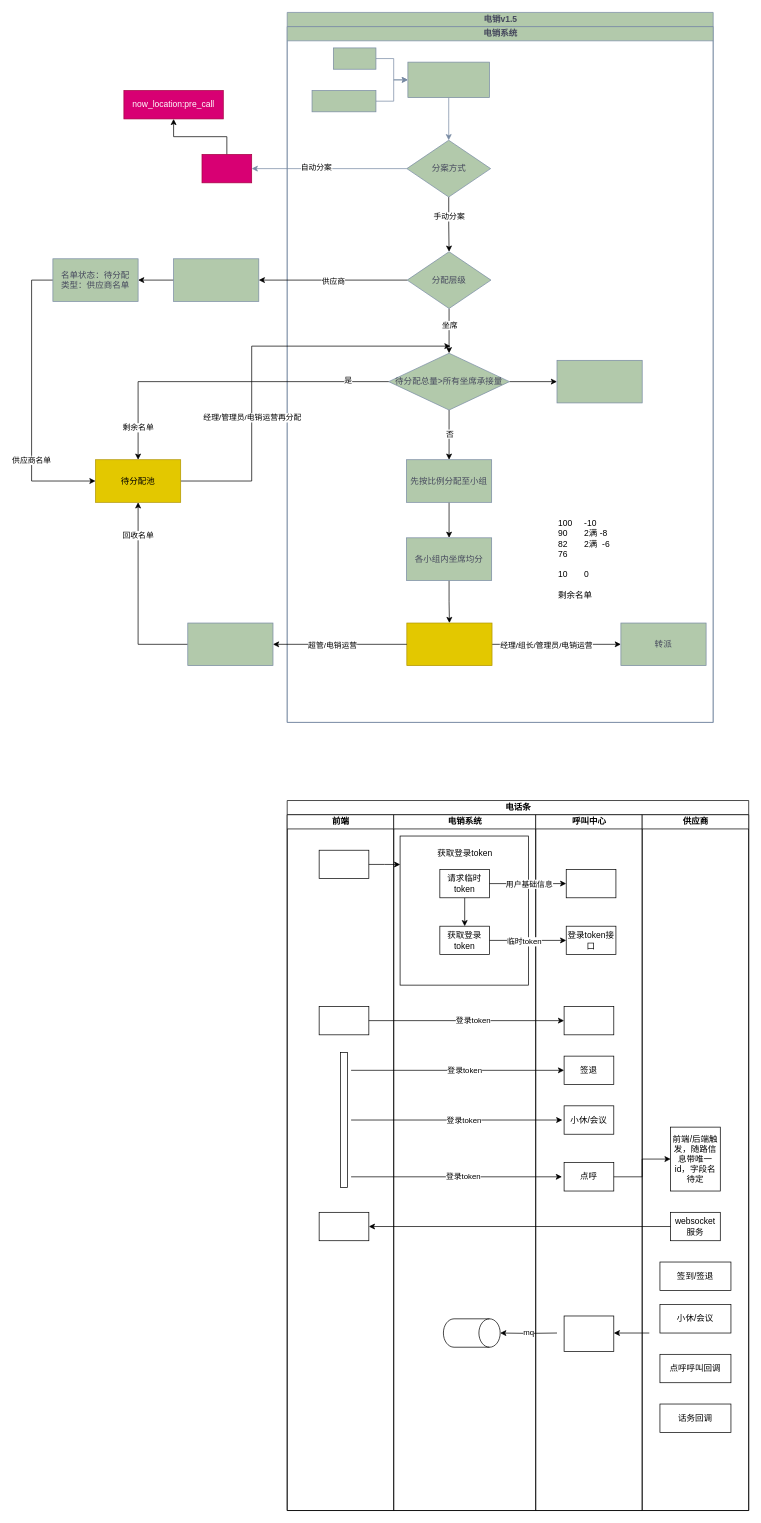
Some shapes in this 761 by 1523 pixel diagram are drawn without their labels. The shapes that lost their labels are listed below. From the top down, each one's centre as x and y in pixels, then its label:
[354,58]: 纯新名单
[448,79]: 新名单入库
[343,101]: 出库撞库方式再入名单
[226,168]: 预测外呼池
[216,279]: 按配置的比例分给供应商
[599,381]: 小组下面所有在职人员的名单每日分配量汇总数量
[230,644]: 回收
[449,644]: 进入案件跟进列表页
[343,864]: 请求获取登录token
[591,883]: 临时token接口
[343,1020]: 请求签到
[588,1020]: 签到
[343,1226]: websocket客户端
[588,1333]: 接收回执事件
